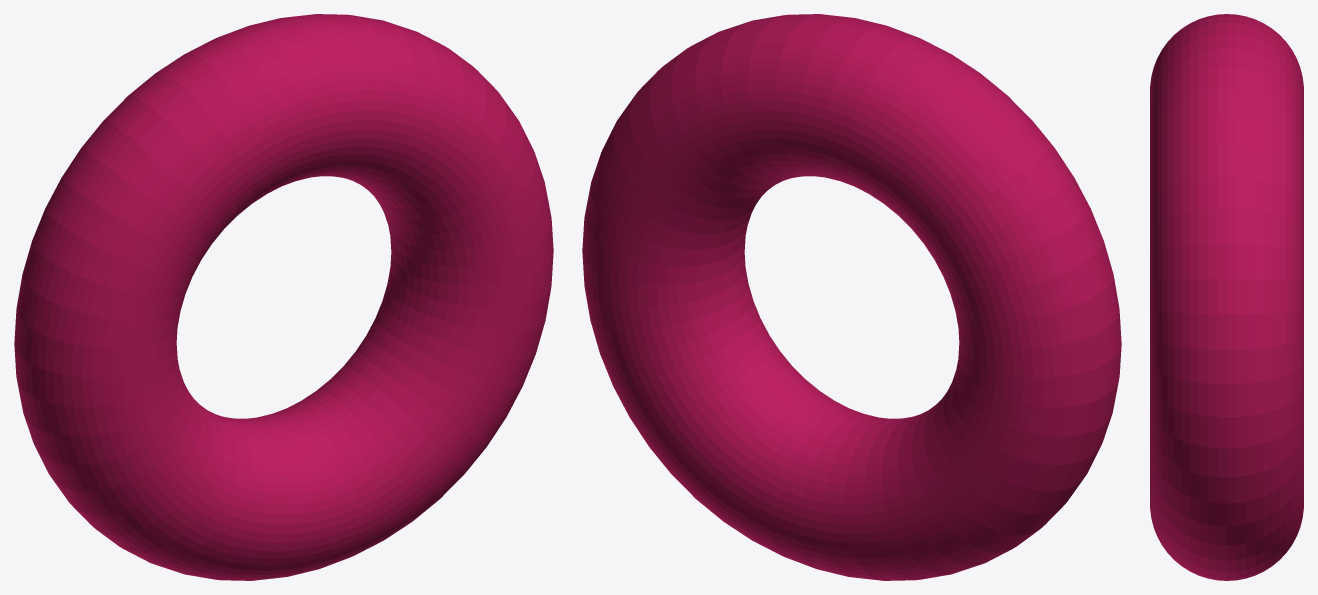
The picture shows the model from 3 angles, left to right: view 1: azimuth 30°, elevation 25°; view 2: azimuth 150°, elevation 25°; view 3: azimuth 270°, elevation 25°; orthographic projection. The views are drawn at different scales.
Visible parts, largest first — view 1: world; view 2: world; view 3: world.
Part boxes in pixels (left/top/right/bottom): world: left=14, top=14, right=553, bottom=580; world: left=582, top=14, right=1121, bottom=580; world: left=1150, top=14, right=1303, bottom=580.
Bounding box in the file's own units: 33.87 × 33.8 × 9.18.
